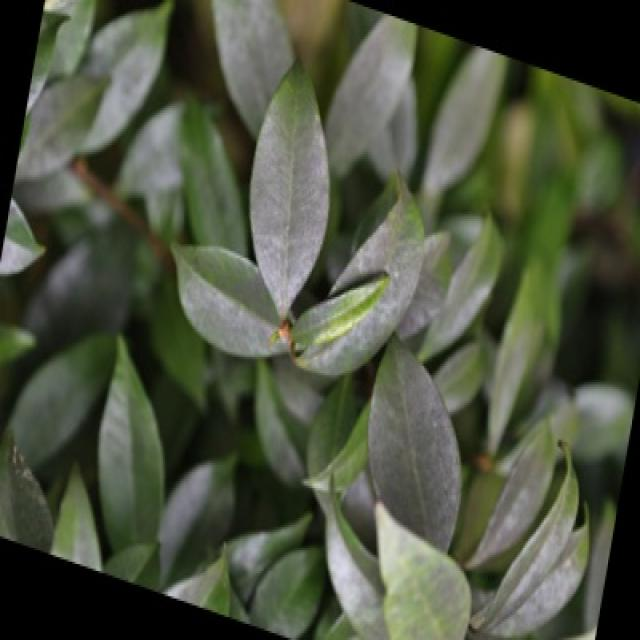Sooty Mold: (0, 0, 638, 637)
